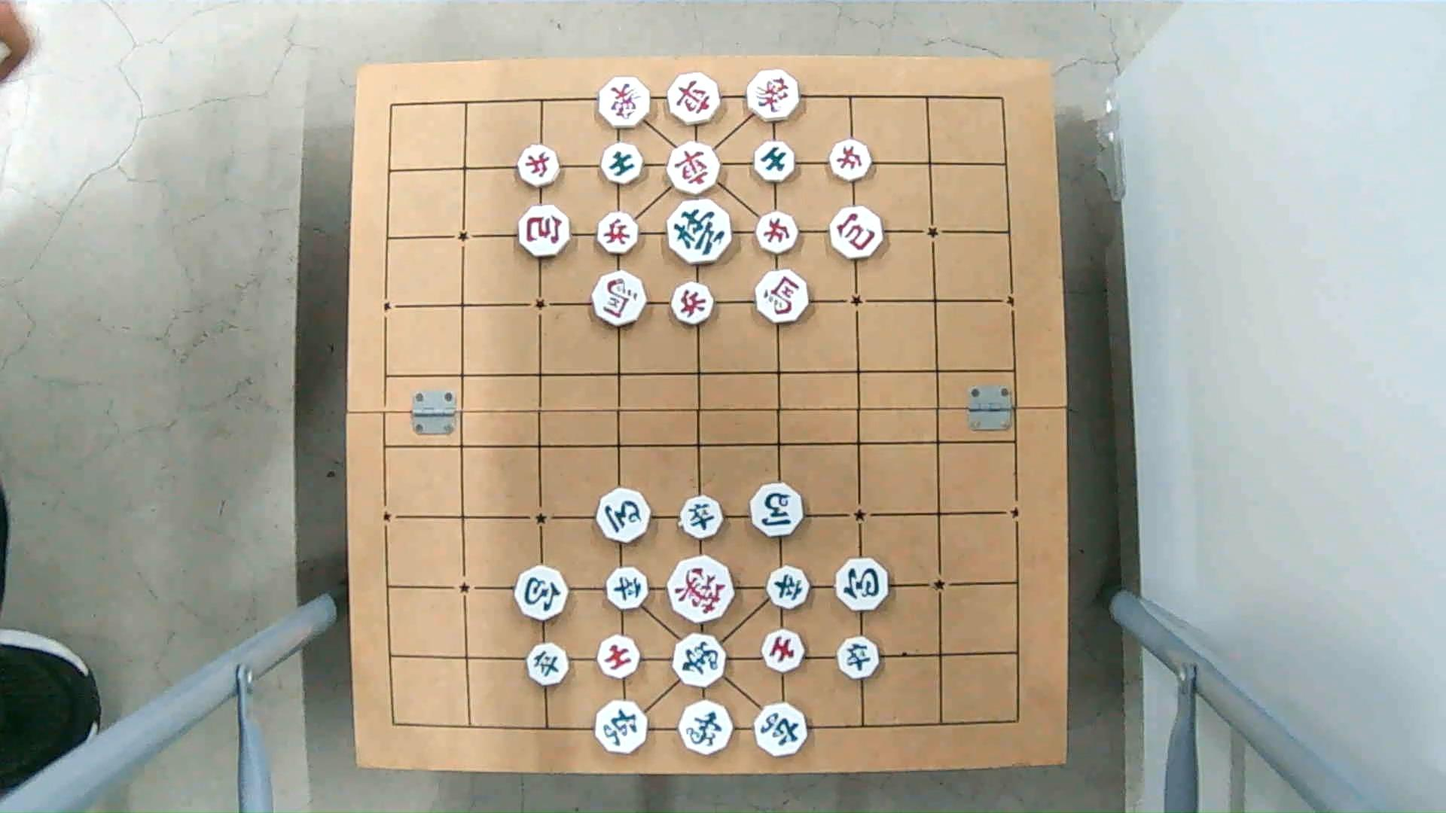cha_green: (751, 706, 810, 755), (591, 704, 650, 752)
cha_red: (665, 145, 724, 192), (667, 75, 724, 123)
jol_green: (678, 496, 727, 537), (767, 567, 810, 611), (604, 570, 652, 609), (834, 641, 882, 679), (527, 642, 569, 684)
jol_red: (755, 211, 801, 253), (667, 286, 717, 324), (516, 148, 564, 187), (827, 140, 874, 178), (593, 215, 642, 251)
ma_green: (594, 491, 654, 540), (750, 486, 808, 534)
ma_red: (752, 269, 811, 320), (590, 276, 648, 326)
po_green: (514, 565, 567, 623), (833, 562, 892, 610)
po_red: (826, 210, 885, 260), (518, 208, 575, 256)
sa_green: (751, 142, 797, 181), (599, 145, 646, 183)
sa_red: (760, 632, 809, 670), (595, 637, 645, 674)
sang_green: (670, 635, 731, 687), (676, 704, 734, 754)
sang_red: (593, 78, 652, 124), (743, 73, 803, 118)
wang_green: (668, 201, 737, 261)
wang_red: (666, 557, 737, 620)
